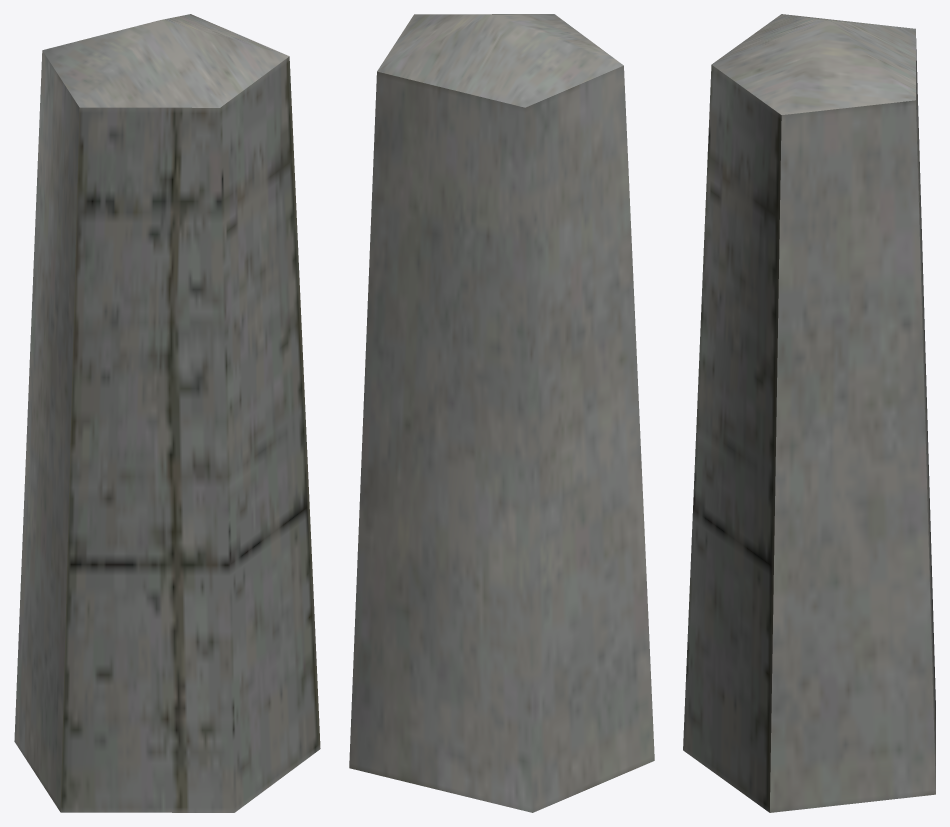
Rendered from mun_all_military_column_strong_impl_s01_l2.fbx.
The picture shows the model from 3 angles, left to right: view 1: azimuth 30°, elevation 25°; view 2: azimuth 150°, elevation 25°; view 3: azimuth 270°, elevation 25°; orthographic projection.
Visible parts, largest first — view 1: mesh_node; view 2: mesh_node; view 3: mesh_node.
Boxes of the visible parts, x1,y1,x2,y2 form: mesh_node: (14, 14, 320, 812); mesh_node: (349, 14, 654, 812); mesh_node: (683, 14, 935, 812).
Size of the model in its own units: 2.73 by 7.4 by 2.33.
1 material, 1 textured.
